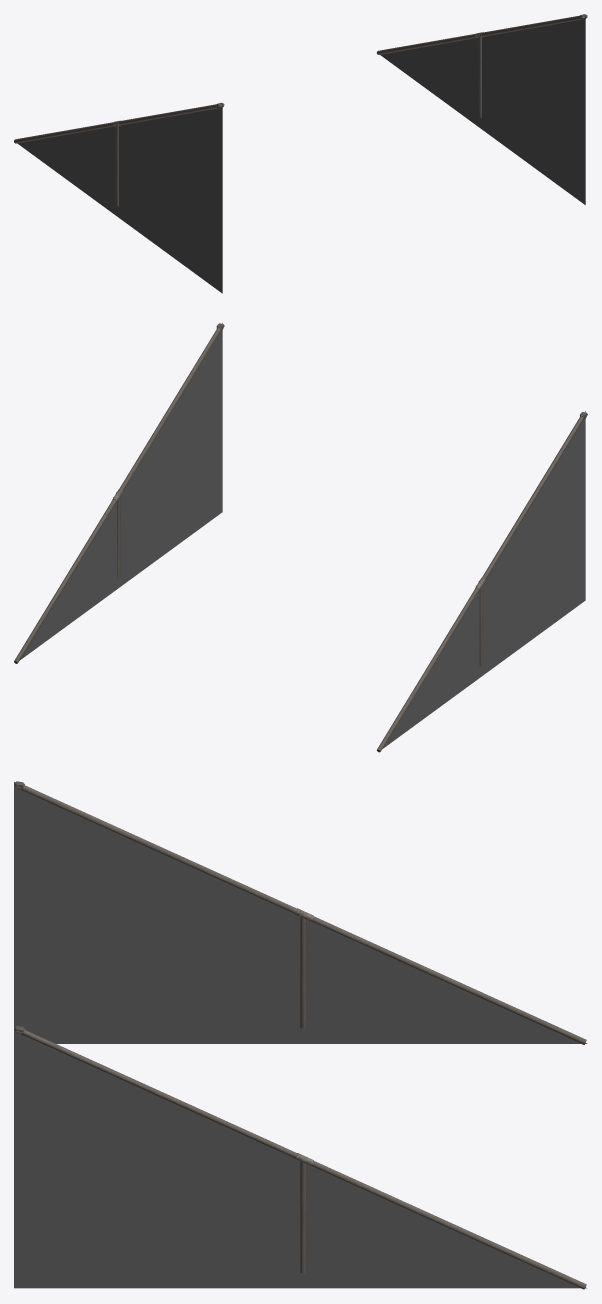
The model's file is scaffold_mid_slope_192.fbx.
The picture shows the model from 3 angles, top to bottom: view 1: azimuth 30°, elevation 25°; view 2: azimuth 150°, elevation 25°; view 3: azimuth 270°, elevation 25°; orthographic projection. The views are drawn at different scales.
Parts seen in each view (by area): view 1: scaffold_mid_slope_192; view 2: scaffold_mid_slope_192; view 3: scaffold_mid_slope_192.
Part boxes in pixels (left/top/right/bottom): scaffold_mid_slope_192: left=14, top=14, right=587, bottom=293; scaffold_mid_slope_192: left=14, top=323, right=587, bottom=752; scaffold_mid_slope_192: left=14, top=781, right=587, bottom=1289.
Bounding box in the file's own units: 391 × 193 × 381.
